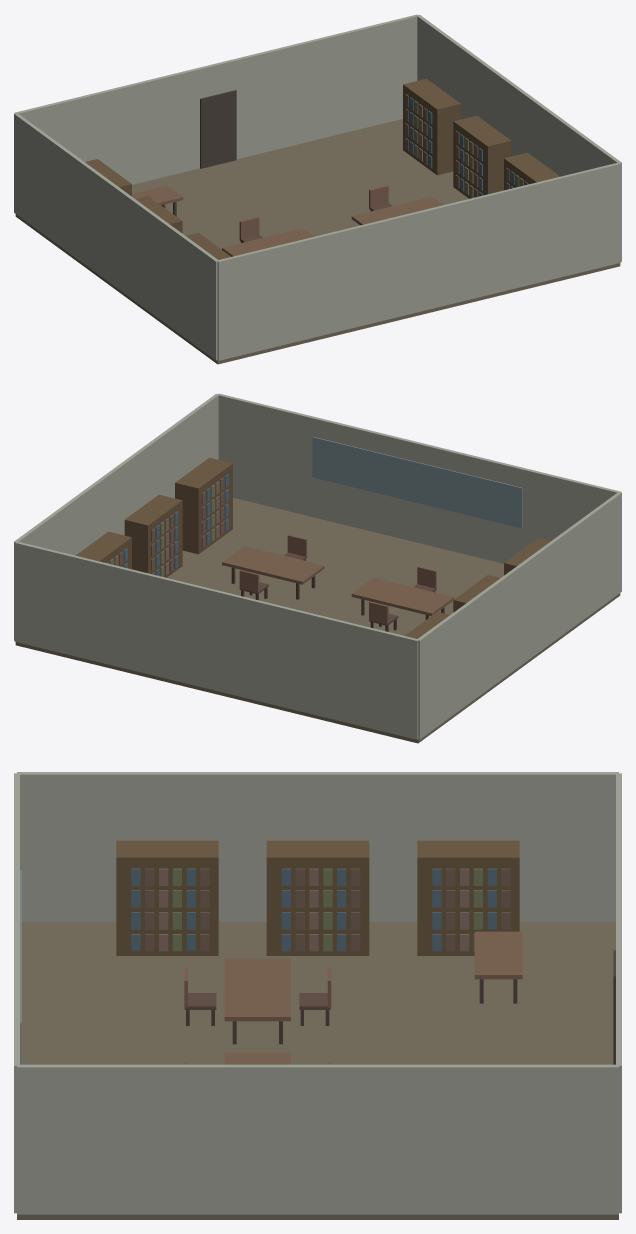
The model's file is bibliotecaBarrio.obj.
3 renders of one model, top to bottom at view 1: azimuth 30°, elevation 25°; view 2: azimuth 150°, elevation 25°; view 3: azimuth 270°, elevation 25°, orthographic. The views are drawn at different scales.
Parts seen in each view (by area): view 1: Pared_de_fondo, Muro_de_entrada, Pared_lateral, Suelo, Estantería_de_libros, Libro, Puerta_SALIDA, Mesa_de_consulta, Silla; view 2: Muro_de_entrada, Pared_lateral, Pared_de_fondo, Suelo, Estantería_de_libros, Ventana, Mesa_de_consulta, Libro, Silla; view 3: Pared_lateral, Suelo, Estantería_de_libros, Libro, Mesa_de_consulta, Pared_de_fondo, Muro_de_entrada, Silla.
Part boxes in pixels (x1,y1,x2,y2): Pared_de_fondo: (217, 163, 621, 360); Muro_de_entrada: (14, 14, 417, 184); Pared_lateral: (14, 15, 621, 360); Suelo: (15, 119, 620, 364); Estantería_de_libros: (85, 78, 559, 259); Libro: (405, 94, 528, 197); Puerta_SALIDA: (200, 90, 236, 168); Mesa_de_consulta: (132, 185, 443, 256); Silla: (239, 185, 392, 242); Muro_de_entrada: (14, 542, 418, 739); Pared_lateral: (14, 394, 621, 739); Pared_de_fondo: (217, 393, 621, 563); Suelo: (15, 498, 620, 743); Estantería_de_libros: (76, 457, 550, 638); Ventana: (312, 437, 522, 528); Mesa_de_consulta: (222, 546, 454, 615); Libro: (107, 474, 228, 576); Silla: (239, 534, 436, 631); Pared_lateral: (17, 772, 618, 1214); Suelo: (17, 922, 618, 1219); Estantería_de_libros: (116, 840, 519, 955); Libro: (131, 868, 510, 951); Mesa_de_consulta: (224, 931, 522, 1064); Pared_de_fondo: (14, 773, 19, 1213); Muro_de_entrada: (616, 773, 621, 1213); Silla: (184, 967, 331, 1064).
Size of the model in its own units: 23.2 by 5.64 by 20.2.
